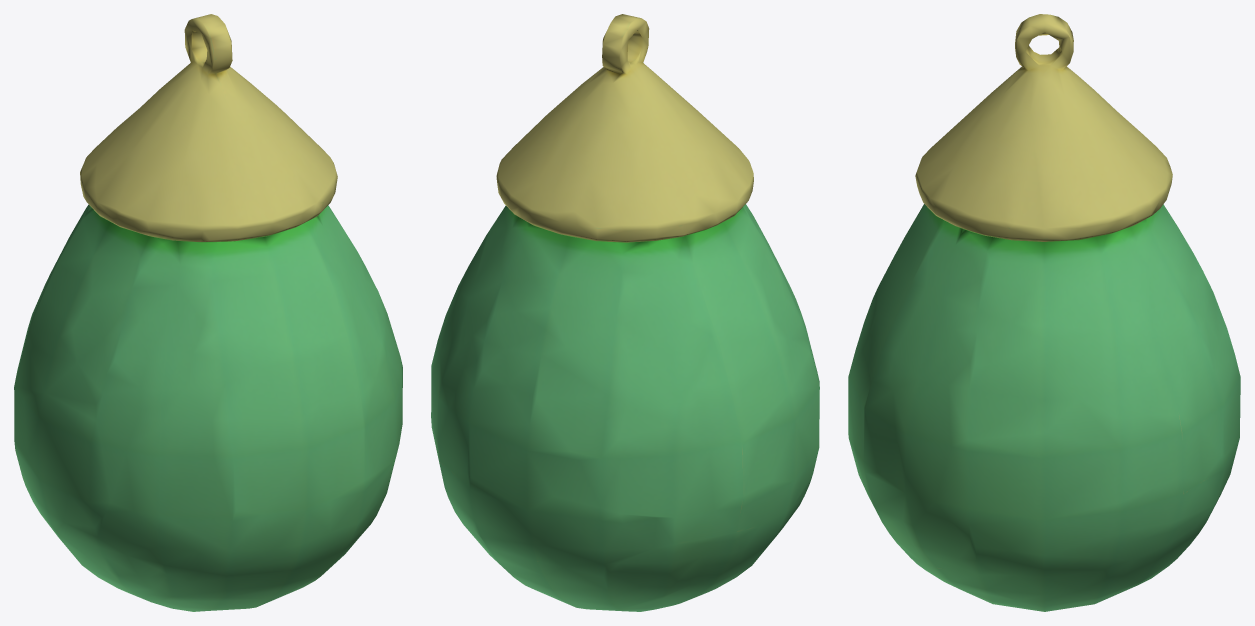
3 views of the same model, side by side, from view 1: azimuth 30°, elevation 25°; view 2: azimuth 150°, elevation 25°; view 3: azimuth 270°, elevation 25° (orthographic).
Parts seen in each view (by area): view 1: gem-pendant; view 2: gem-pendant; view 3: gem-pendant.
Boxes of the visible parts, x1,y1,x2,y2 form: gem-pendant: [14, 14, 402, 611]; gem-pendant: [431, 14, 819, 611]; gem-pendant: [848, 14, 1240, 611].
Size of the model in its own units: 0.2058 by 0.336 by 0.2064.
1 material, 1 textured.
